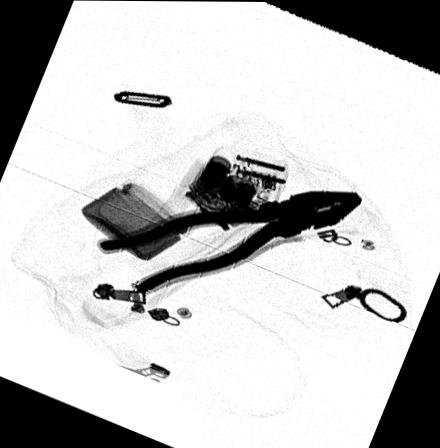Pliers: (96, 191, 361, 293)
